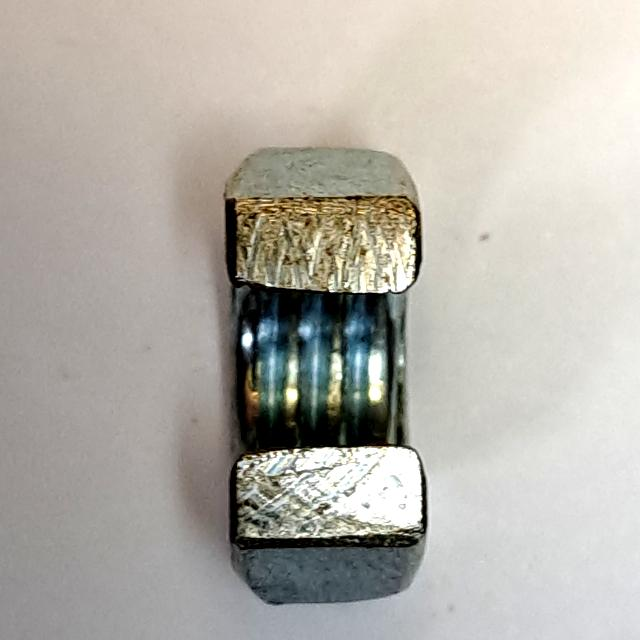Side-Fracture: (203, 136, 443, 617)
